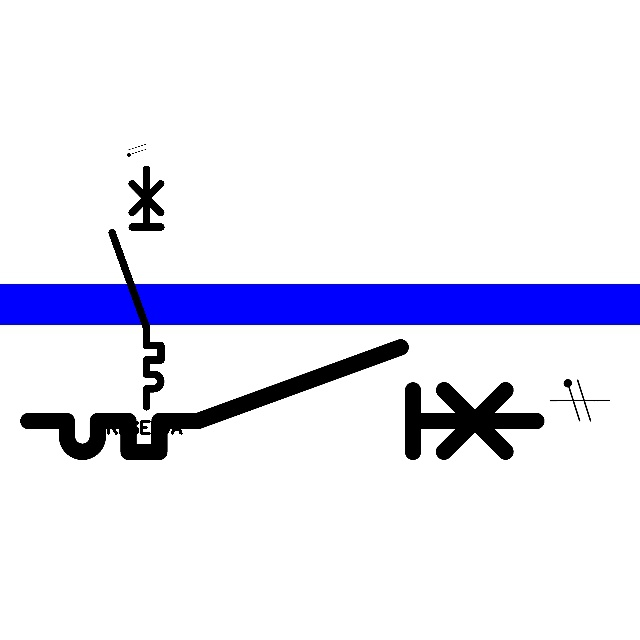interruptor_termomagnetico: (15, 334, 550, 465), (106, 163, 167, 413)
